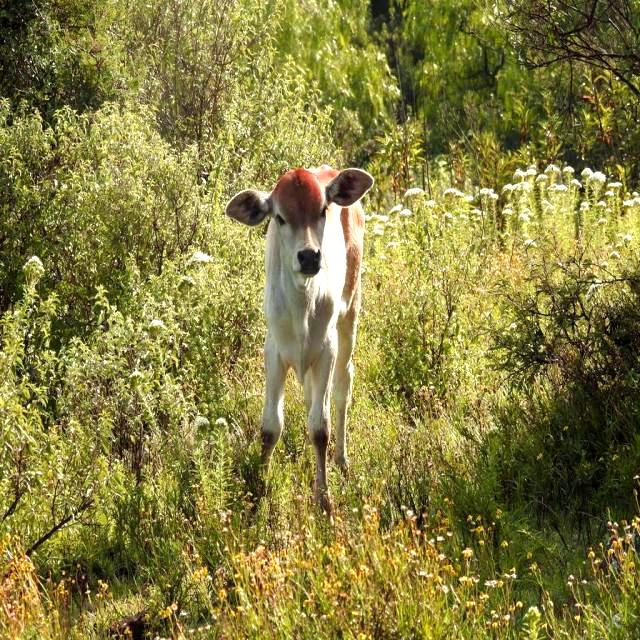COW: (226, 166, 374, 512)
